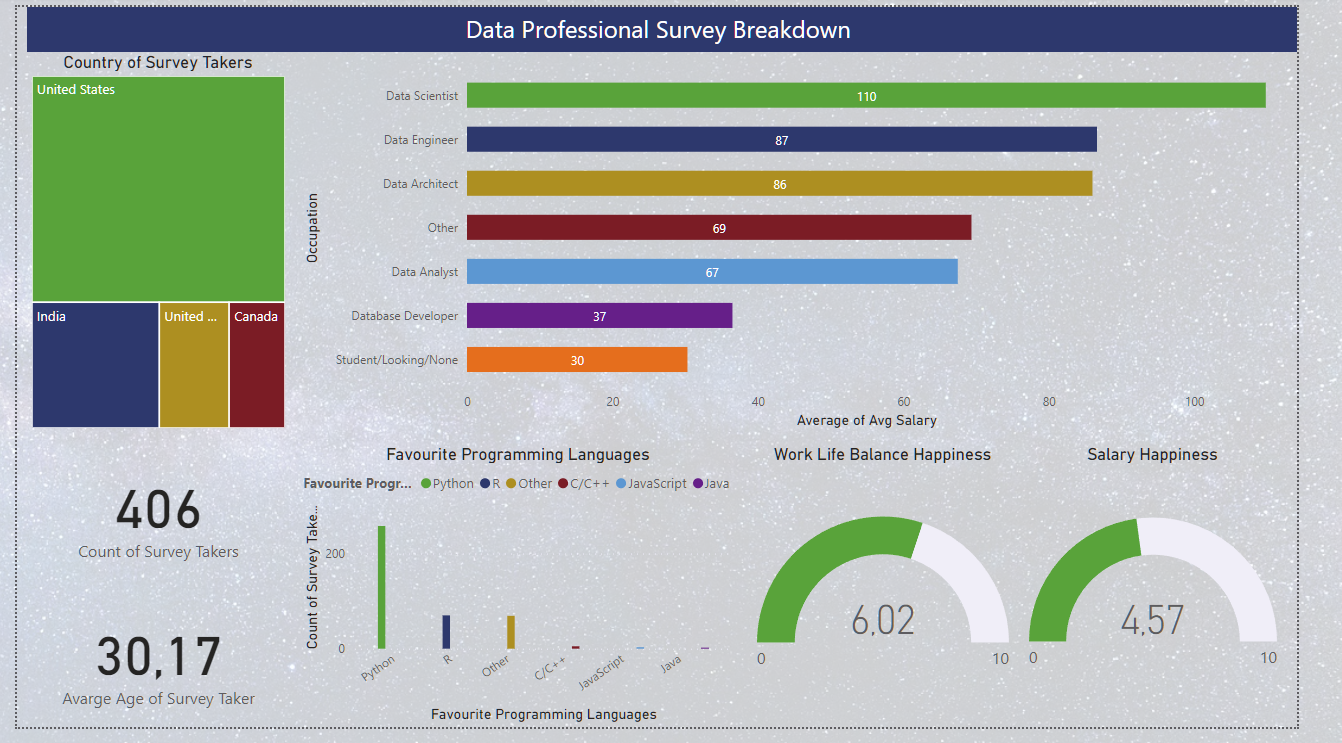

What the dashboard file says about the page in this screenshot:
{"tool":"powerbi","page":{"name":"Survey Breakdown","canvas":[1280,720],"ordinal":0},"visuals":[{"type":"textbox","box":[9.7,0,1270.3,44.7],"z":0},{"type":"card","fields":{"Values":["CountNonNull(Data Professional Survey.Unique ID)"]},"box":[10,437,263,136],"z":1000},{"type":"card","fields":{"Values":["Avg(Data Professional Survey.Q10 - Current Age)"]},"box":[10,584,263,136],"z":2000},{"type":"clusteredColumnChart","title":"Favourite Programming Languages","fields":{"Category":["Data Professional Survey.Q5 - Favorite Programming Language.1"],"Y":["CountNonNull(Data Professional Survey.Unique ID)"],"Series":["Data Professional Survey.Q5 - Favorite Programming Language.1"]},"box":[282,437,439,283],"z":3000},{"type":"treemap","title":"Country of Survey Takers","fields":{"Group":["Data Professional Survey.Q11 - Which Country do you live in?"],"Values":["CountNonNull(Data Professional Survey.Q11 - Which Country do you live in?)"]},"box":[9.6,45.1,262.9,380.9],"z":4000},{"type":"gauge","title":"Work Life Balance Happiness","fields":{"Y":["Avg(Data Professional Survey.Q6 - How Happy are you in your Current Position with the following? (Work/Life Balance))"],"MinValue":["Min(Data Professional Survey.Q6 - How Happy are you in your Current Position with the following? (Work/Life Balance))1"],"MaxValue":["Max(Data Professional Survey.Q6 - How Happy are you in your Current Position with the following? (Work/Life Balance))2"]},"box":[735,437,262,283],"z":5000},{"type":"gauge","title":"Salary Happiness","fields":{"Y":["Avg(Data Professional Survey.Q6 - How Happy are you in your Current Position with the following? (Salary))"],"MinValue":["Min(Data Professional Survey.Q6 - How Happy are you in your Current Position with the following? (Salary))"],"MaxValue":["Max(Data Professional Survey.Q6 - How Happy are you in your Current Position with the following? (Salary))"]},"box":[1007,437,258,283],"z":6000},{"type":"barChart","fields":{"Category":["Data Professional Survey.Q1 - Which Title Best Fits your Current Role?.1"],"Y":["Avg(Data Professional Survey.Avg Salary)"],"Series":["Data Professional Survey.Q1 - Which Title Best Fits your Current Role?.1"]},"box":[282,45,983,381],"z":7000}]}

Visuals, with their boxes in screenshot pixels (x1, y1, x2, y2), scaled from the page's 1280x720 canvas onto the 1342x743 screenshot:
textbox: {"left": 10, "top": 0, "right": 1341, "bottom": 46}
card - CountNonNull(Data Professional Survey.Unique ID): {"left": 10, "top": 451, "right": 286, "bottom": 591}
card - Avg(Data Professional Survey.Q10 - Current Age): {"left": 10, "top": 603, "right": 286, "bottom": 742}
"Favourite Programming Languages" clusteredColumnChart: {"left": 296, "top": 451, "right": 756, "bottom": 742}
"Country of Survey Takers" treemap: {"left": 10, "top": 47, "right": 286, "bottom": 440}
"Work Life Balance Happiness" gauge: {"left": 771, "top": 451, "right": 1045, "bottom": 742}
"Salary Happiness" gauge: {"left": 1056, "top": 451, "right": 1326, "bottom": 742}
barChart - Data Professional Survey.Q1 - Which Title Best Fits your Current Role?.1 x Avg(Data Professional Survey.Avg Salary): {"left": 296, "top": 46, "right": 1326, "bottom": 440}
